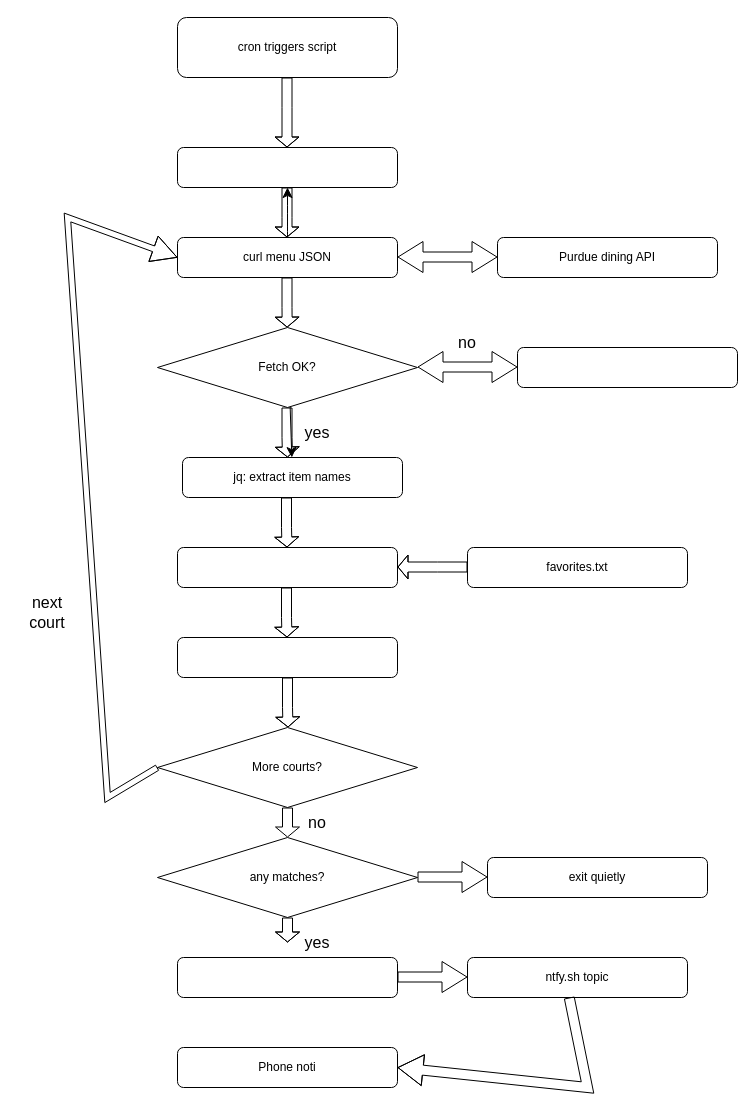
The diagram is 755 pixels wide and 1111 high, and some of its shapes have lost their labels. The shapes that lost their labels are listed below. From the top down, each one's centre as x and y in pixels, then its label:
At point 287,167: "for each court".
At point 627,367: "Print error".
At point 287,567: "grep -i -f favorites.txt".
At point 287,657: "append matches by court".
At point 287,977: "curl -d to ntfy topic".
